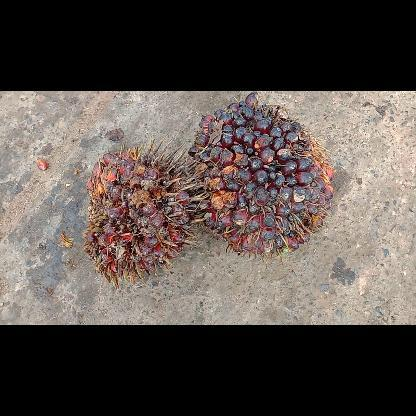Kurang masak: (186, 91, 336, 265)
TBS masak: (82, 137, 207, 289)
